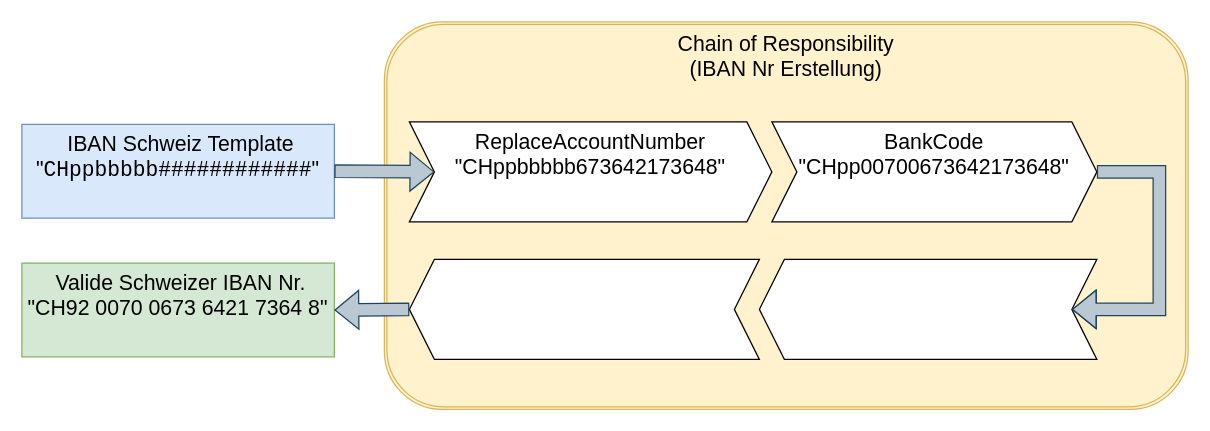
Some shapes in this 1210 by 431 pixel diagram are drawn without their labels. The centre of each missing label's shape, as x and y in pixels:
Format "CH92 0070 0673 6421 7364 8": pixel 583 308
IBANCheckSum "CH9200700673642173648": pixel 927 308
